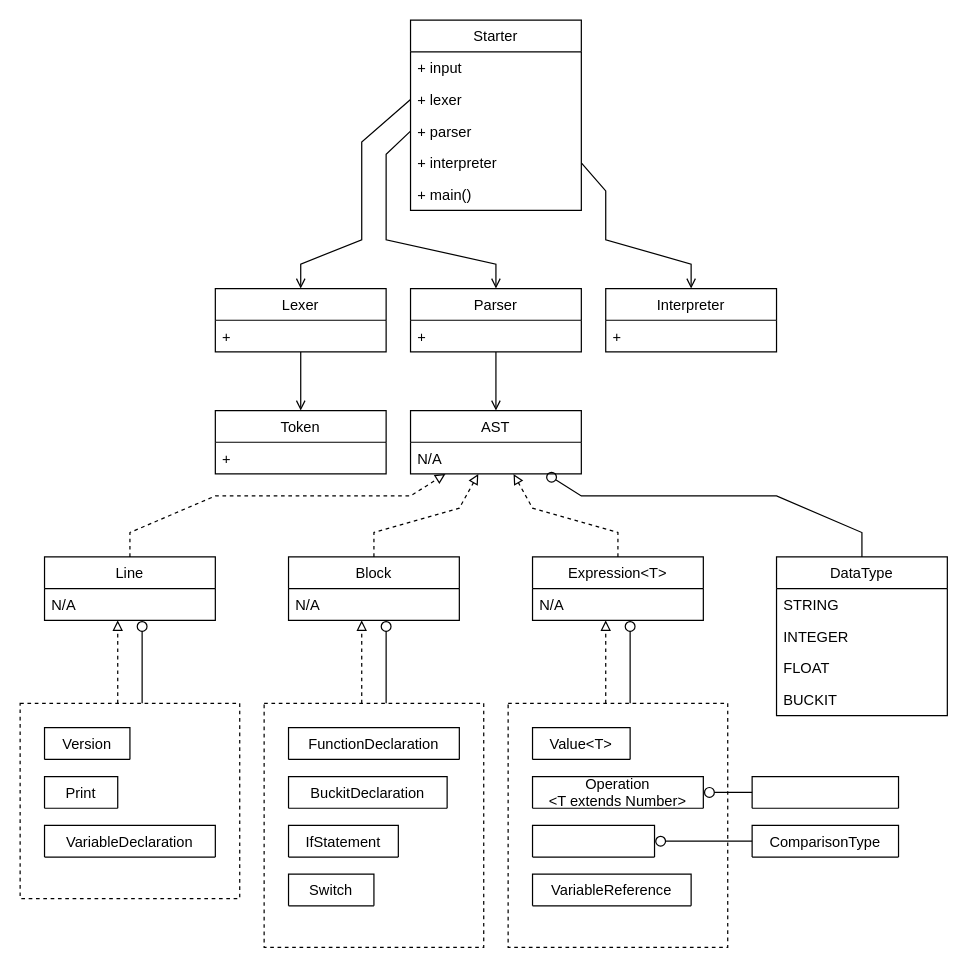
The diagram is 967 pixels wide and 967 high, and some of its shapes have lost their labels. The shapes that lost their labels are listed below. From the top down, each one's centre as x and y in pixels, then its label:
(825,791): OperationType
(593,840): Comparison
